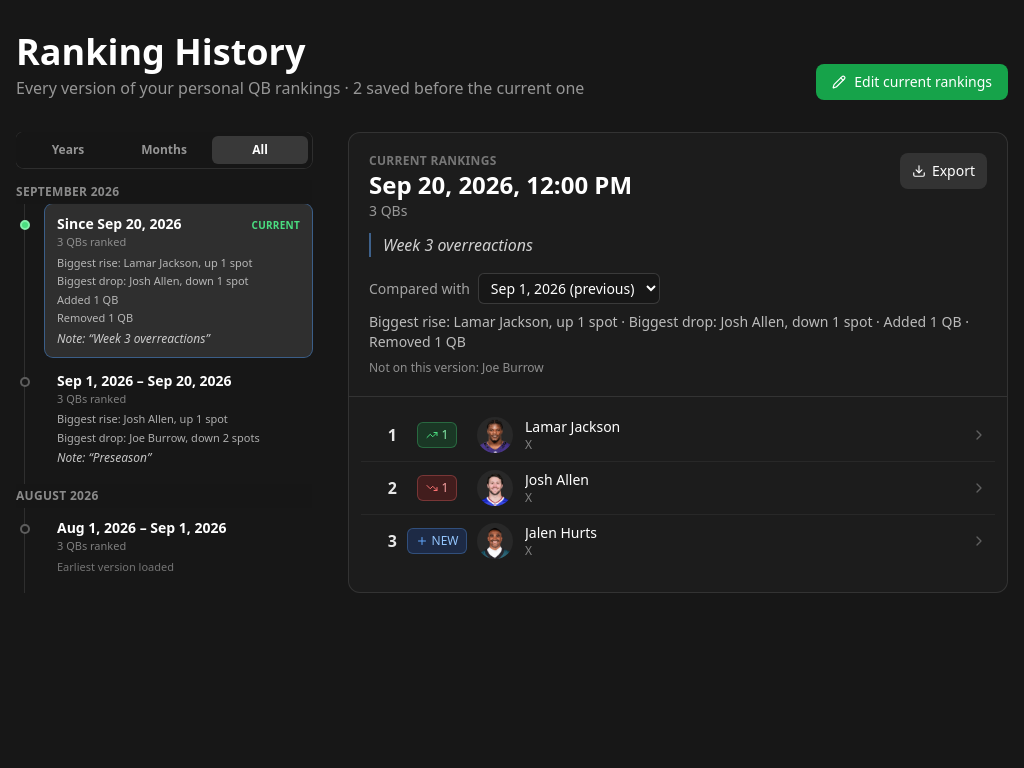
Test: ranking history page › compares against any other version, not just the one before
Expected: the text "Current rankings" is shown, x1=369 y1=152 x2=497 y2=169
Expected: the text "Biggest rise: Lamar Jackson, up 1 spot" is shown, x1=369 y1=312 x2=969 y2=351
// Against August: Lamar went from 3rd to 1st.
Select "Aug 1, 2026" in the dropdown. click: (569, 288)
box: x1=478 y1=273 x2=660 y2=304
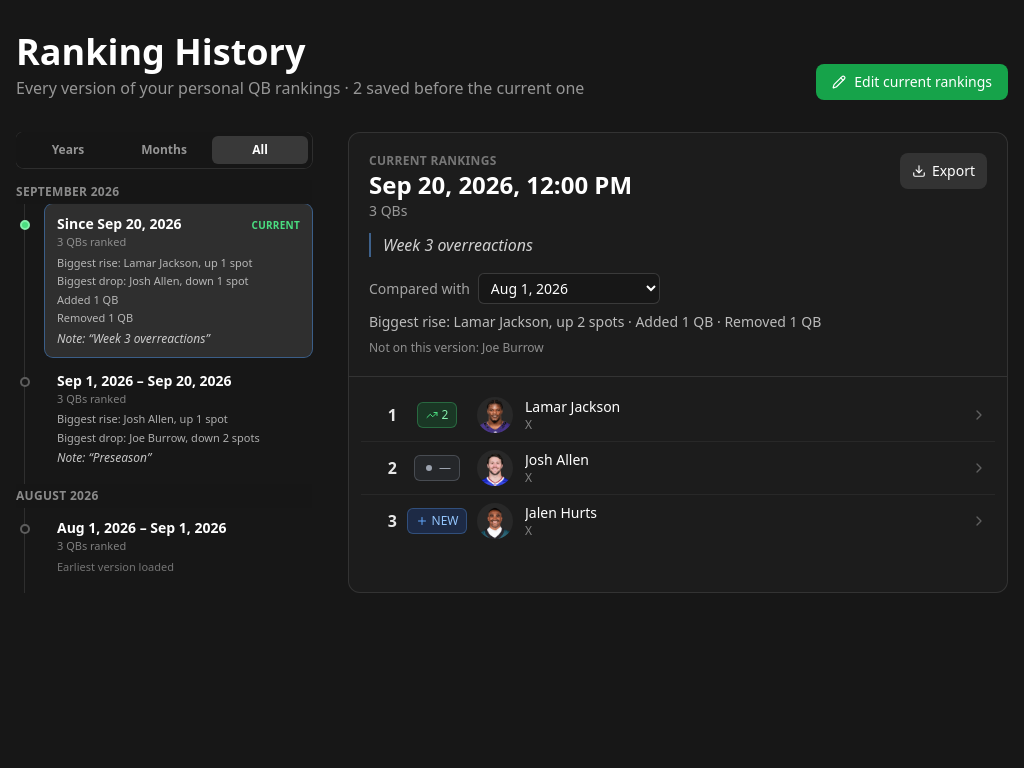
Expected: the text "Biggest rise: Lamar Jackson, up 2 spots" is shown, x1=369 y1=312 x2=821 y2=331
